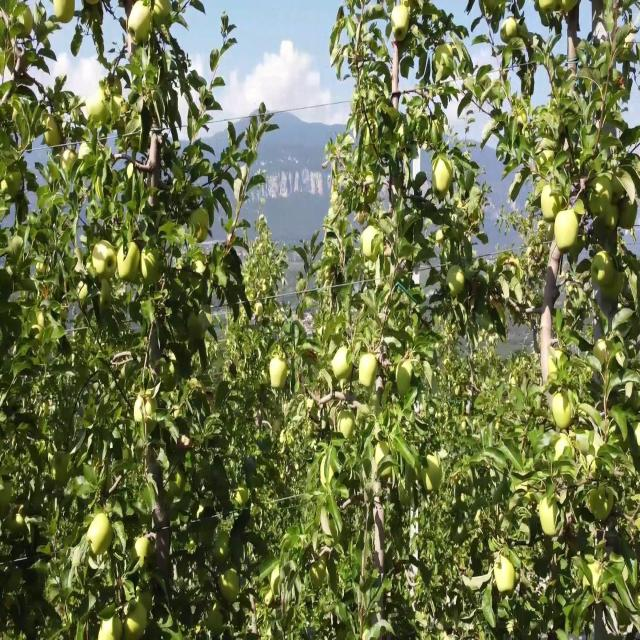apple: (88, 511, 115, 556), (556, 206, 579, 254), (116, 241, 141, 284), (128, 7, 152, 48), (596, 255, 619, 297), (588, 490, 615, 523), (140, 248, 163, 286), (92, 241, 116, 277), (600, 270, 624, 306), (124, 604, 148, 639), (540, 497, 560, 539), (552, 391, 573, 430), (432, 156, 454, 192), (436, 42, 455, 82), (592, 255, 616, 286), (220, 568, 240, 604), (424, 455, 444, 491), (376, 440, 393, 482), (496, 561, 516, 596), (392, 7, 411, 43), (544, 184, 563, 220), (364, 227, 382, 263), (360, 355, 379, 389), (336, 348, 354, 382), (192, 206, 209, 242), (208, 604, 227, 636), (396, 362, 414, 395), (620, 199, 637, 233), (56, 0, 76, 28), (152, 0, 172, 28), (448, 270, 467, 299), (272, 355, 287, 391), (16, 7, 34, 37), (596, 213, 620, 235), (44, 120, 62, 149), (556, 433, 575, 460), (100, 618, 124, 639), (188, 312, 206, 340), (600, 206, 620, 231), (8, 170, 24, 199), (572, 234, 588, 263), (608, 341, 621, 375), (340, 412, 355, 441), (504, 14, 519, 41), (136, 540, 151, 567), (320, 462, 336, 485), (200, 526, 216, 548), (216, 540, 229, 567), (236, 483, 249, 510), (100, 284, 114, 309), (596, 341, 608, 366), (64, 149, 76, 174), (592, 199, 607, 217), (364, 184, 376, 206), (124, 7, 132, 34), (436, 191, 448, 204), (248, 291, 257, 306), (256, 305, 264, 318)
